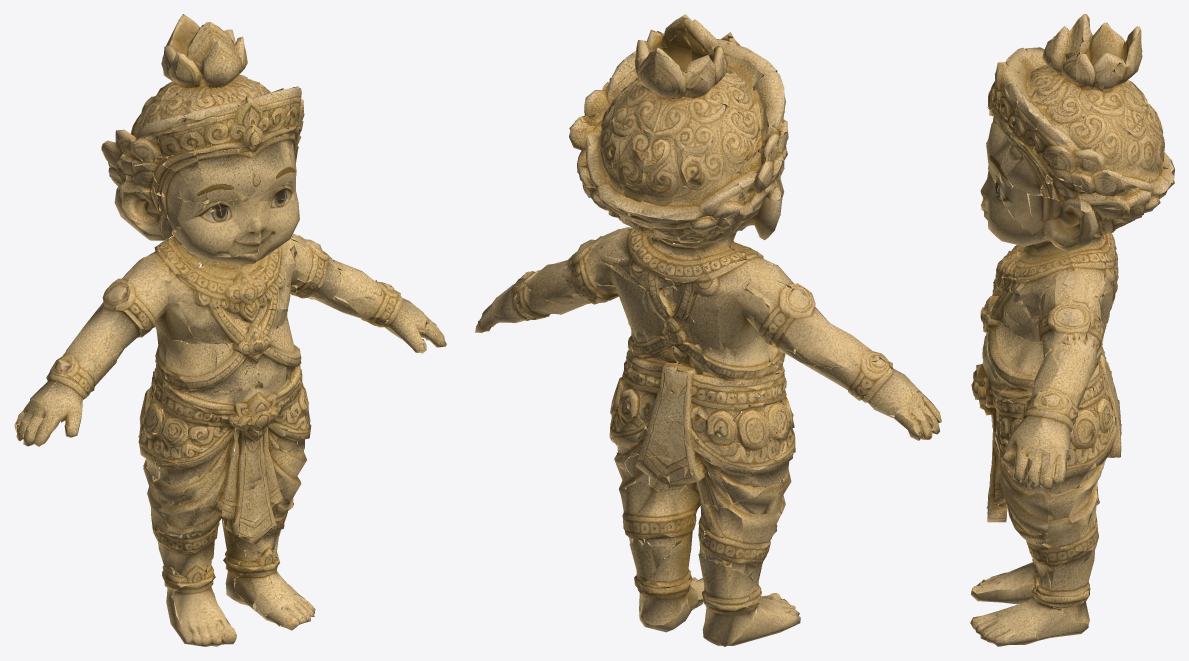
The model's file is Mascot.glb.
3 views of the same model, side by side, from view 1: azimuth 30°, elevation 25°; view 2: azimuth 150°, elevation 25°; view 3: azimuth 270°, elevation 25° (orthographic). The views are drawn at different scales.
Parts seen in each view (by area): view 1: Mesh_0; view 2: Mesh_0; view 3: Mesh_0.
Boxes of the visible parts, left/top/right/bottom form: Mesh_0: left=14, top=14, right=446, bottom=646; Mesh_0: left=475, top=14, right=941, bottom=646; Mesh_0: left=970, top=14, right=1174, bottom=646.
Size of the model in its own units: 0.121 by 0.1601 by 0.0493.
1 material, 1 textured.
